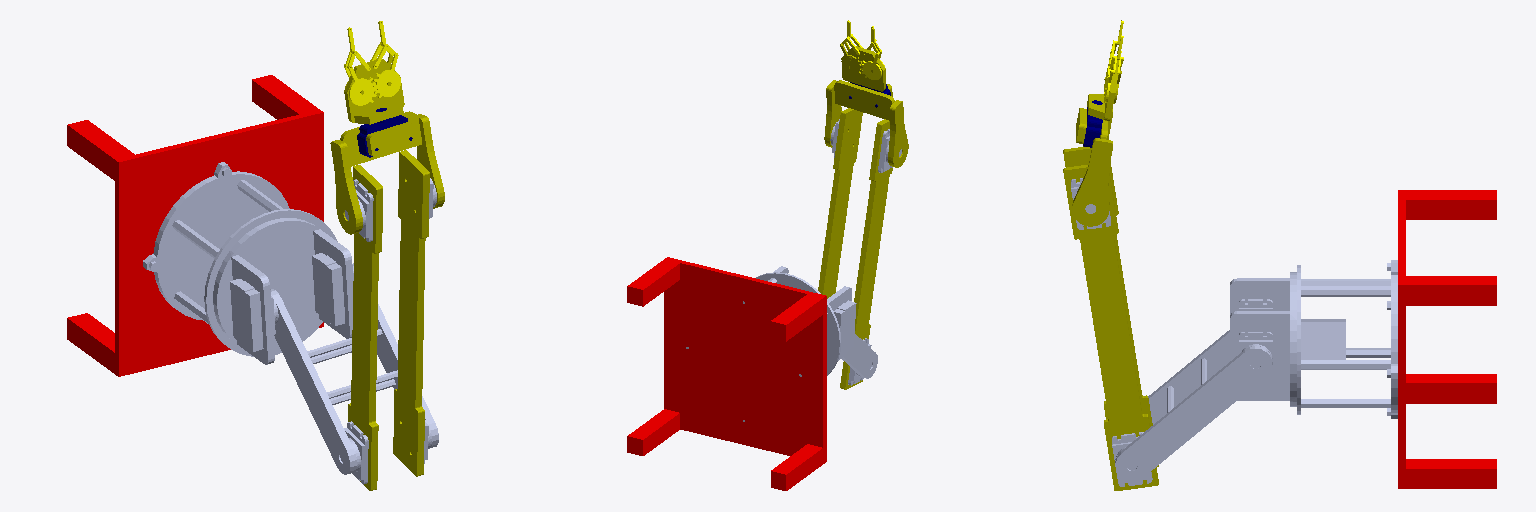
--- Facts derived from the render (not from the file) ---
Views: 3 orthographic renders of the robot side by side, from view 1: azimuth 30°, elevation 25°; view 2: azimuth 150°, elevation 25°; view 3: azimuth 270°, elevation 25°.
Model RoboticArmUrdf with 27 links and 26 joints (26 fixed), rooted at base_link, posed all joints at 0.
Visible links, largest first — view 1: base_link, upper_arm, rotating_base, base_support, lower_arm, lower_wrist, upper_wrist_support, middle_wrist_fastener, lower_arm_joint, upper_arm_joint, middle_wrist, middle_wrist_rotate (+2 smaller); view 2: base_link, upper_arm, lower_wrist, middle_wrist, base_support, rotating_base, upper_wrist_support, lower_arm, upper_arm_joint; view 3: base_link, upper_arm, lower_arm, base_support, rotating_base, lower_wrist, rotating_base_joint, upper_wrist_support, lower_arm_joint.
Boxes of the visible links, box(x1,y1,x2,y2) form: base_link: box(67, 75, 323, 376); upper_arm: box(348, 150, 429, 490); rotating_base: box(213, 218, 352, 364); base_support: box(143, 162, 337, 356); lower_arm: box(270, 263, 438, 474); lower_wrist: box(330, 114, 444, 234); upper_wrist_support: box(344, 53, 404, 124); middle_wrist_fastener: box(366, 122, 416, 156); lower_arm_joint: box(340, 420, 431, 484); upper_arm_joint: box(345, 178, 436, 241); middle_wrist: box(335, 111, 421, 166); middle_wrist_rotate: box(357, 108, 412, 157); base_link: box(627, 257, 826, 490); upper_arm: box(818, 108, 892, 389); lower_wrist: box(824, 80, 908, 167); middle_wrist: box(834, 80, 900, 120); base_support: box(686, 272, 840, 421); rotating_base: box(773, 266, 856, 360); upper_wrist_support: box(840, 43, 885, 91); lower_arm: box(842, 334, 877, 378); upper_arm_joint: box(830, 119, 901, 172); base_link: box(1398, 190, 1496, 488); upper_arm: box(1063, 147, 1158, 490); lower_arm: box(1115, 330, 1272, 481); base_support: box(1297, 260, 1397, 418); rotating_base: box(1230, 272, 1296, 406); lower_wrist: box(1072, 109, 1112, 226); rotating_base_joint: box(1239, 299, 1272, 383); upper_wrist_support: box(1087, 60, 1121, 120); lower_arm_joint: box(1112, 432, 1152, 486).
Bounding box of the posed robot: 0.3 × 0.5776 × 0.6503 m (x, y, z).
26 mesh visuals loaded from 27 distinct referenced files (26 binary STL); not drawn: 1 (reference not matched to a file when rendering).

The robot description file, URDF, robot "RoboticArmUrdf":
<?xml version="1.0" encoding="utf-8"?>
<!-- This URDF was automatically created by SolidWorks to URDF Exporter! Originally created by Stephen Brawner ([email redacted]) 
     Commit Version: 1.5.1-0-g916b5db  Build Version: 1.5.7152.31018
     For more information, please see http://wiki.ros.org/sw_urdf_exporter -->
<robot
  name="RoboticArmUrdf">
  <link
    name="base_link">
    <inertial>
      <origin
        xyz="0.0130606856888136 0.104796725192401 0.133927940020527"
        rpy="0 0 0" />
      <mass
        value="1.3348146018366" />
      <inertia
        ixx="0.00731717119287839"
        ixy="-3.95166411671864E-19"
        ixz="2.02987595928941E-21"
        iyy="0.00731717119287839"
        iyz="-7.68519617455242E-20"
        izz="0.0135564188757262" />
    </inertial>
    <visual>
      <origin
        xyz="0 0 0"
        rpy="0 0 0" />
      <geometry>
        <mesh
          filename="package://RoboticArmUrdf/meshes/base_link.STL" />
      </geometry>
      <material
        name="">
        <color
          rgba="1 0 0 1" />
      </material>
    </visual>
    <collision>
      <origin
        xyz="0 0 0"
        rpy="0 0 0" />
      <geometry>
        <mesh
          filename="package://RoboticArmUrdf/meshes/base_link.STL" />
      </geometry>
    </collision>
  </link>
  <link
    name="base_support">
    <inertial>
      <origin
        xyz="-0.000162890713149082 -7.3240534757088E-05 0.0664450704223414"
        rpy="0 0 0" />
      <mass
        value="0.832868332393332" />
      <inertia
        ixx="0.00350108503435845"
        ixy="-4.67330503264092E-05"
        ixz="-2.46721283635663E-07"
        iyy="0.00359380894375415"
        iyz="-1.80675445571452E-07"
        izz="0.00325080940173649" />
    </inertial>
    <visual>
      <origin
        xyz="0 0 0"
        rpy="0 0 0" />
      <geometry>
        <mesh
          filename="package://RoboticArmUrdf/meshes/base_support.STL" />
      </geometry>
      <material
        name="">
        <color
          rgba="0.792156862745098 0.819607843137255 0.933333333333333 1" />
      </material>
    </visual>
    <collision>
      <origin
        xyz="0 0 0"
        rpy="0 0 0" />
      <geometry>
        <mesh
          filename="package://RoboticArmUrdf/meshes/base_support.STL" />
      </geometry>
    </collision>
  </link>
  <joint
    name="base_support"
    type="fixed">
    <origin
      xyz="0.0130606856888135 -0.160303043320073 0.104796725192401"
      rpy="1.5707963267949 0 0" />
    <parent
      link="base_link" />
    <child
      link="base_support" />
    <axis
      xyz="0 0 0" />
  </joint>
  <link
    name="rotating_base">
    <inertial>
      <origin
        xyz="-0.00269104666764745 -2.26128577741902E-06 0.0310765276223877"
        rpy="0 0 0" />
      <mass
        value="0.568032159474985" />
      <inertia
        ixx="0.00127653342014438"
        ixy="6.45607624381303E-08"
        ixz="3.65694449931144E-05"
        iyy="0.00211751010326715"
        iyz="3.07292946051472E-08"
        izz="0.0025129988786093" />
    </inertial>
    <visual>
      <origin
        xyz="0 0 0"
        rpy="0 0 0" />
      <geometry>
        <mesh
          filename="package://RoboticArmUrdf/meshes/rotating_base.STL" />
      </geometry>
      <material
        name="">
        <color
          rgba="0.792156862745098 0.819607843137255 0.933333333333333 1" />
      </material>
    </visual>
    <collision>
      <origin
        xyz="0 0 0"
        rpy="0 0 0" />
      <geometry>
        <mesh
          filename="package://RoboticArmUrdf/meshes/rotating_base.STL" />
      </geometry>
    </collision>
  </link>
  <joint
    name="rotating_base"
    type="fixed">
    <origin
      xyz="0 0 0.135"
      rpy="0 0 0.0667915392522343" />
    <parent
      link="base_support" />
    <child
      link="rotating_base" />
    <axis
      xyz="0 0 0" />
  </joint>
  <link
    name="rotating_base_joint">
    <inertial>
      <origin
        xyz="-0.0549999999999999 -0.00703986656086272 -0.0523864443275936"
        rpy="0 0 0" />
      <mass
        value="0.0779202105891382" />
      <inertia
        ixx="2.17852476330344E-05"
        ixy="-8.10741447379937E-08"
        ixz="1.08950162168509E-08"
        iyy="1.3516751184445E-05"
        iyz="2.62188702546664E-06"
        izz="3.26749163361101E-05" />
    </inertial>
    <visual>
      <origin
        xyz="0 0 0"
        rpy="0 0 0" />
      <geometry>
        <mesh
          filename="package://RoboticArmUrdf/meshes/rotating_base_joint.STL" />
      </geometry>
      <material
        name="">
        <color
          rgba="0.792156862745098 0.819607843137255 0.933333333333333 1" />
      </material>
    </visual>
    <collision>
      <origin
        xyz="0 0 0"
        rpy="0 0 0" />
      <geometry>
        <mesh
          filename="package://RoboticArmUrdf/meshes/rotating_base_joint.STL" />
      </geometry>
    </collision>
  </link>
  <joint
    name="rotating_base_joint"
    type="fixed">
    <origin
      xyz="0.065071012278614 0 0"
      rpy="0.133583078504468 1.5707963267949 0" />
    <parent
      link="rotating_base" />
    <child
      link="rotating_base_joint" />
    <axis
      xyz="0 0 0" />
  </joint>
  <link
    name="lower_arm">
    <inertial>
      <origin
        xyz="-0.155 -2.77555756156289E-16 -0.0550700000000001"
        rpy="0 0 0" />
      <mass
        value="0.247158355868061" />
      <inertia
        ixx="0.000866534387061446"
        ixy="-2.38524477946811E-18"
        ixz="-3.08881451406787E-19"
        iyy="0.00201398604928593"
        iyz="-7.61067705470258E-19"
        izz="0.0012313026951699" />
    </inertial>
    <visual>
      <origin
        xyz="0 0 0"
        rpy="0 0 0" />
      <geometry>
        <mesh
          filename="package://RoboticArmUrdf/meshes/lower_arm.STL" />
      </geometry>
      <material
        name="">
        <color
          rgba="0.792156862745098 0.819607843137255 0.929411764705882 1" />
      </material>
    </visual>
    <collision>
      <origin
        xyz="0 0 0"
        rpy="0 0 0" />
      <geometry>
        <mesh
          filename="package://RoboticArmUrdf/meshes/lower_arm.STL" />
      </geometry>
    </collision>
  </link>
  <joint
    name="lower_arm"
    type="fixed">
    <origin
      xyz="0.0810710122786172 0.0297610010239274 0.021246736186644"
      rpy="1.5707963267949 0.848171739621261 1.5707963267949" />
    <parent
      link="rotating_base" />
    <child
      link="lower_arm" />
    <axis
      xyz="0 0 0" />
  </joint>
  <link
    name="lower_arm_joint">
    <inertial>
      <origin
        xyz="-0.055 -4.5102810375397E-16 -0.0390699999999915"
        rpy="0 0 0" />
      <mass
        value="0.0779202105891381" />
      <inertia
        ixx="2.17852476330344E-05"
        ixy="3.72694496791892E-20"
        ixz="-2.83514661611665E-21"
        iyy="1.31644131887314E-05"
        iyz="8.13839870087848E-21"
        izz="3.30272543318236E-05" />
    </inertial>
    <visual>
      <origin
        xyz="0 0 0"
        rpy="0 0 0" />
      <geometry>
        <mesh
          filename="package://RoboticArmUrdf/meshes/lower_arm_joint.STL" />
      </geometry>
      <material
        name="">
        <color
          rgba="0.792156862745098 0.819607843137255 0.933333333333333 1" />
      </material>
    </visual>
    <collision>
      <origin
        xyz="0 0 0"
        rpy="0 0 0" />
      <geometry>
        <mesh
          filename="package://RoboticArmUrdf/meshes/lower_arm_joint.STL" />
      </geometry>
    </collision>
  </link>
  <joint
    name="lower_arm_joint"
    type="fixed">
    <origin
      xyz="-0.311174431281139 0.0298817987387519 -0.0160000000000158"
      rpy="0 0 2.56722332066206" />
    <parent
      link="lower_arm" />
    <child
      link="lower_arm_joint" />
    <axis
      xyz="0 0 0" />
  </joint>
  <link
    name="upper_arm">
    <inertial>
      <origin
        xyz="0.0550000000000026 -0.189183548498198 0.0390699999999916"
        rpy="0 0 0" />
      <mass
        value="0.476012561848824" />
      <inertia
        ixx="0.00947889882391171"
        ixy="1.03776782631702E-16"
        ixz="-2.24747907897596E-20"
        iyy="0.000115722688482621"
        iyz="5.31255179436593E-18"
        izz="0.00958668796969685" />
    </inertial>
    <visual>
      <origin
        xyz="0 0 0"
        rpy="0 0 0" />
      <geometry>
        <mesh
          filename="package://RoboticArmUrdf/meshes/upper_arm.STL" />
      </geometry>
      <material
        name="">
        <color
          rgba="0.749019607843137 0.749019607843137 0 1" />
      </material>
    </visual>
    <collision>
      <origin
        xyz="0 0 0"
        rpy="0 0 0" />
      <geometry>
        <mesh
          filename="package://RoboticArmUrdf/meshes/upper_arm.STL" />
      </geometry>
    </collision>
  </link>
  <joint
    name="upper_arm"
    type="fixed">
    <origin
      xyz="-0.311174431281139 0.0298817987387519 -0.0160000000000158"
      rpy="-3.14159265358979 0 -0.574369332927732" />
    <parent
      link="lower_arm" />
    <child
      link="upper_arm" />
    <axis
      xyz="0 0 0" />
  </joint>
  <link
    name="upper_arm_joint">
    <inertial>
      <origin
        xyz="-0.055000000000017 -2.18158824338843E-14 -0.0390699999999914"
        rpy="0 0 0" />
      <mass
        value="0.0779202105891382" />
      <inertia
        ixx="2.17852476330344E-05"
        ixy="-3.26742959403346E-19"
        ixz="7.10214574478763E-21"
        iyy="1.31644131887314E-05"
        iyz="-1.75376127055876E-21"
        izz="3.30272543318237E-05" />
    </inertial>
    <visual>
      <origin
        xyz="0 0 0"
        rpy="0 0 0" />
      <geometry>
        <mesh
          filename="package://RoboticArmUrdf/meshes/upper_arm_joint.STL" />
      </geometry>
      <material
        name="">
        <color
          rgba="0.792156862745098 0.819607843137255 0.933333333333333 1" />
      </material>
    </visual>
    <collision>
      <origin
        xyz="0 0 0"
        rpy="0 0 0" />
      <geometry>
        <mesh
          filename="package://RoboticArmUrdf/meshes/upper_arm_joint.STL" />
      </geometry>
    </collision>
  </link>
  <joint
    name="upper_arm_joint"
    type="fixed">
    <origin
      xyz="0 -0.371200669102102 0"
      rpy="3.14159265358979 0 3.14159265358977" />
    <parent
      link="upper_arm" />
    <child
      link="upper_arm_joint" />
    <axis
      xyz="0 0 0" />
  </joint>
  <link
    name="lower_wrist">
    <inertial>
      <origin
        xyz="-0.0550000000000144 -0.0303864944381415 -0.0550699999999914"
        rpy="0 0 0" />
      <mass
        value="0.0793292965742476" />
      <inertia
        ixx="8.95927070134836E-05"
        ixy="-1.81053292475607E-19"
        ixz="-2.04602092850225E-22"
        iyy="1.08988695552488E-05"
        iyz="-4.26453909775066E-20"
        izz="9.91694216258284E-05" />
    </inertial>
    <visual>
      <origin
        xyz="0 0 0"
        rpy="0 0 0" />
      <geometry>
        <mesh
          filename="package://RoboticArmUrdf/meshes/lower_wrist.STL" />
      </geometry>
      <material
        name="">
        <color
          rgba="0.749019607843137 0.749019607843137 0 1" />
      </material>
    </visual>
    <collision>
      <origin
        xyz="0 0 0"
        rpy="0 0 0" />
      <geometry>
        <mesh
          filename="package://RoboticArmUrdf/meshes/lower_wrist.STL" />
      </geometry>
    </collision>
  </link>
  <joint
    name="lower_wrist"
    type="fixed">
    <origin
      xyz="0.00288582485909794 -0.388782271685086 -0.0159999999999981"
      rpy="-3.14159265358979 0 -2.81621620868754" />
    <parent
      link="upper_arm" />
    <child
      link="lower_wrist" />
    <axis
      xyz="0 0 0" />
  </joint>
  <link
    name="middle_wrist">
    <inertial>
      <origin
        xyz="-0.0550000000000147 -0.084487798152163 -0.0650699999999999"
        rpy="0 0 0" />
      <mass
        value="0.041392877796077" />
      <inertia
        ixx="5.43054950346831E-05"
        ixy="-1.60936259978317E-20"
        ixz="3.27684156399979E-20"
        iyy="4.78269819228167E-05"
        iyz="-3.20708133340438E-20"
        izz="6.92003714169129E-06" />
    </inertial>
    <visual>
      <origin
        xyz="0 0 0"
        rpy="0 0 0" />
      <geometry>
        <mesh
          filename="package://RoboticArmUrdf/meshes/middle_wrist.STL" />
      </geometry>
      <material
        name="">
        <color
          rgba="0.749019607843137 0.749019607843137 0 1" />
      </material>
    </visual>
    <collision>
      <origin
        xyz="0 0 0"
        rpy="0 0 0" />
      <geometry>
        <mesh
          filename="package://RoboticArmUrdf/meshes/middle_wrist.STL" />
      </geometry>
    </collision>
  </link>
  <joint
    name="middle_wrist"
    type="fixed">
    <origin
      xyz="0 0 0.00999999999999916"
      rpy="0 0 0" />
    <parent
      link="lower_wrist" />
    <child
      link="middle_wrist" />
    <axis
      xyz="0 0 0" />
  </joint>
  <link
    name="middle_wrist_fastener">
    <inertial>
      <origin
        xyz="0.0650700000000033 -0.0902500014384841 0.00500000000000045"
        rpy="0 0 0" />
      <mass
        value="0.0180265824894944" />
      <inertia
        ixx="1.36978170398376E-06"
        ixy="-1.77134294860471E-22"
        ixz="-3.19217618211663E-20"
        iyy="6.29447940200515E-06"
        iyz="1.48230765769503E-21"
        izz="7.36381806449733E-06" />
    </inertial>
    <visual>
      <origin
        xyz="0 0 0"
        rpy="0 0 0" />
      <geometry>
        <mesh
          filename="package://RoboticArmUrdf/meshes/middle_wrist_fastener.STL" />
      </geometry>
      <material
        name="">
        <color
          rgba="0.749019607843137 0.749019607843137 0 1" />
      </material>
    </visual>
    <collision>
      <origin
        xyz="0 0 0"
        rpy="0 0 0" />
      <geometry>
        <mesh
          filename="package://RoboticArmUrdf/meshes/middle_wrist_fastener.STL" />
      </geometry>
    </collision>
  </link>
  <joint
    name="middle_wrist_fastener"
    type="fixed">
    <origin
      xyz="-0.0310000000000152 0 0.00999999999999779"
      rpy="1.7889617221838 1.57079631189374 1.78922028604001" />
    <parent
      link="lower_wrist" />
    <child
      link="middle_wrist_fastener" />
    <axis
      xyz="0 0 0" />
  </joint>
  <link
    name="middle_wrist_rotate">
    <inertial>
      <origin
        xyz="0.0650700000000001 -0.0934209399670716 0.0100000000000001"
        rpy="0 0 0" />
      <mass
        value="0.0544006200163533" />
      <inertia
        ixx="9.78547159330619E-06"
        ixy="1.23014255527929E-20"
        ixz="-8.17344849645657E-20"
        iyy="2.16942147820842E-05"
        iyz="-3.3881317890172E-21"
        izz="2.76409822294144E-05" />
    </inertial>
    <visual>
      <origin
        xyz="0 0 0"
        rpy="0 0 0" />
      <geometry>
        <mesh
          filename="package://RoboticArmUrdf/meshes/middle_wrist_rotate.STL" />
      </geometry>
      <material
        name="">
        <color
          rgba="0 0 0.501960784313725 1" />
      </material>
    </visual>
    <collision>
      <origin
        xyz="0 0 0"
        rpy="0 0 0" />
      <geometry>
        <mesh
          filename="package://RoboticArmUrdf/meshes/middle_wrist_rotate.STL" />
      </geometry>
    </collision>
  </link>
  <joint
    name="middle_wrist_rotate"
    type="fixed">
    <origin
      xyz="-0.0510000000000153 0 0.009999999999996"
      rpy="1.8200473876846 1.57079630572147 1.82043872432893" />
    <parent
      link="lower_wrist" />
    <child
      link="middle_wrist_rotate" />
    <axis
      xyz="0 0 0" />
  </joint>
  <link
    name="upper_wrist_support">
    <inertial>
      <origin
        xyz="-0.0638496887120203 -0.00169425079540031 0.0273006010626642"
        rpy="0 0 0" />
      <mass
        value="0.0555738247179545" />
      <inertia
        ixx="2.44431745672034E-05"
        ixy="3.99164276393589E-20"
        ixz="-1.03536168224706E-07"
        iyy="4.43340564974168E-05"
        iyz="-3.42527115552265E-06"
        izz="2.49701179742996E-05" />
    </inertial>
    <visual>
      <origin
        xyz="0 0 0"
        rpy="0 0 0" />
      <geometry>
        <mesh
          filename="package://RoboticArmUrdf/meshes/upper_wrist_support.STL" />
      </geometry>
      <material
        name="">
        <color
          rgba="0.749019607843137 0.749019607843137 0 1" />
      </material>
    </visual>
    <collision>
      <origin
        xyz="0 0 0"
        rpy="0 0 0" />
      <geometry>
        <mesh
          filename="package://RoboticArmUrdf/meshes/upper_wrist_support.STL" />
      </geometry>
    </collision>
  </link>
  <joint
    name="upper_wrist_support"
    type="fixed">
    <origin
      xyz="0.00015242058887599 -0.116806017714321 -0.00421487894331463"
      rpy="-1.5707963267949 0.0109990775949471 -3.14159265358979" />
    <parent
      link="middle_wrist_rotate" />
    <child
      link="upper_wrist_support" />
    <axis
      xyz="0 0 0" />
  </joint>
  <link
    name="left_upper_gear">
    <inertial>
      <origin
        xyz="0.04560067699187 -0.0403924815910667 0.00150000000000017"
        rpy="0 0 0" />
      <mass
        value="0.0033951831813499" />
      <inertia
        ixx="4.76330917639785E-07"
        ixy="-7.71923054033505E-08"
        ixz="6.74979379843271E-22"
        iyy="3.13325223592269E-07"
        iyz="1.76685778841327E-21"
        izz="7.84563366460029E-07" />
    </inertial>
    <visual>
      <origin
        xyz="0 0 0"
        rpy="0 0 0" />
      <geometry>
        <mesh
          filename="package://RoboticArmUrdf/meshes/left_upper_gear.STL" />
      </geometry>
      <material
        name="">
        <color
          rgba="1 1 0 1" />
      </material>
    </visual>
    <collision>
      <origin
        xyz="0 0 0"
        rpy="0 0 0" />
      <geometry>
        <mesh
          filename="package://RoboticArmUrdf/meshes/left_upper_gear.STL" />
      </geometry>
    </collision>
  </link>
  <joint
    name="left_upper_gear"
    type="fixed">
    <origin
      xyz="-0.00881412206891066 -0.00329999999996133 -0.0084845804053541"
      rpy="-1.57079632679489 -0.207904224454459 -3.14159265358946" />
    <parent
      link="upper_wrist_support" />
    <child
      link="left_upper_gear" />
    <axis
      xyz="0 0 0" />
  </joint>
  <link
    name="left_upper_fastner_support">
    <inertial>
      <origin
        xyz="-0.0296581057404265 -0.0949371627528535 0.00124999999999953"
        rpy="0 0 0" />
      <mass
        value="0.000282503805877604" />
      <inertia
        ixx="1.20637751745227E-08"
        ixy="2.92812516355629E-09"
        ixz="1.16839261523115E-23"
        iyy="1.49590348728812E-09"
        iyz="-6.38480035314368E-24"
        izz="1.32654038640217E-08" />
    </inertial>
    <visual>
      <origin
        xyz="0 0 0"
        rpy="0 0 0" />
      <geometry>
        <mesh
          filename="package://RoboticArmUrdf/meshes/left_upper_fastner_support.STL" />
      </geometry>
      <material
        name="">
        <color
          rgba="1 1 0 1" />
      </material>
    </visual>
    <collision>
      <origin
        xyz="0 0 0"
        rpy="0 0 0" />
      <geometry>
        <mesh
          filename="package://RoboticArmUrdf/meshes/left_upper_fastner_support.STL" />
      </geometry>
    </collision>
  </link>
  <joint
    name="left_upper_fastner_support"
    type="fixed">
    <origin
      xyz="-0.0553979760761215 -0.0642810003731594 0"
      rpy="3.14159265358979 0 -2.03851468926038" />
    <parent
      link="left_upper_gear" />
    <child
      link="left_upper_fastner_support" />
    <axis
      xyz="0 0 0" />
  </joint>
  <link
    name="left_end_effector">
    <inertial>
      <origin
        xyz="-0.0202625950481072 -0.131145813818515 0.00165499999999963"
        rpy="0 0 0" />
      <mass
        value="0.000540661599083285" />
      <inertia
        ixx="4.67657334114781E-08"
        ixy="1.17755889168048E-08"
        ixz="8.01331218410746E-24"
        iyy="4.69591747119047E-09"
        iyz="6.02420130485885E-23"
        izz="5.04743937917159E-08" />
    </inertial>
    <visual>
      <origin
        xyz="0 0 0"
        rpy="0 0 0" />
      <geometry>
        <mesh
          filename="package://RoboticArmUrdf/meshes/left_end_effector.STL" />
      </geometry>
      <material
        name="">
        <color
          rgba="1 1 0 1" />
      </material>
    </visual>
    <collision>
      <origin
        xyz="0 0 0"
        rpy="0 0 0" />
      <geometry>
        <mesh
          filename="package://RoboticArmUrdf/meshes/left_end_effector.STL" />
      </geometry>
    </collision>
  </link>
  <joint
    name="left_end_effector"
    type="fixed">
    <origin
      xyz="-0.0775257933993018 0.00332527875256274 0.00249999999996076"
      rpy="0 0 0.640001266438473" />
    <parent
      link="left_upper_fastner_support" />
    <child
      link="left_end_effector" />
    <axis
      xyz="0 0 0" />
  </joint>
  <link
    name="right_upper_gear">
    <inertial>
      <origin
        xyz="0.0456006769918698 -0.0403924815910666 0.00149999999999961"
        rpy="0 0 0" />
      <mass
        value="0.00339518318134994" />
      <inertia
        ixx="4.76330917639795E-07"
        ixy="-7.71923054033513E-08"
        ixz="1.45335633625567E-21"
        iyy="3.13325223592271E-07"
        iyz="-1.01577779221512E-21"
        izz="7.84563366460041E-07" />
    </inertial>
    <visual>
      <origin
        xyz="0 0 0"
        rpy="0 0 0" />
      <geometry>
        <mesh
          filename="package://RoboticArmUrdf/meshes/right_upper_gear.STL" />
      </geometry>
      <material
        name="">
        <color
          rgba="1 1 0 1" />
      </material>
    </visual>
    <collision>
      <origin
        xyz="0 0 0"
        rpy="0 0 0" />
      <geometry>
        <mesh
          filename="package://RoboticArmUrdf/meshes/right_upper_gear.STL" />
      </geometry>
    </collision>
  </link>
  <joint
    name="right_upper_gear"
    type="fixed">
    <origin
      xyz="-0.129704760937072 -0.00630000000000874 -0.000510297532895165"
      rpy="-1.5707963267949 -0.0113771448285702 0" />
    <parent
      link="upper_wrist_support" />
    <child
      link="right_upper_gear" />
    <axis
      xyz="0 0 0" />
  </joint>
  <link
    name="right_upper_fastner_support">
    <inertial>
      <origin
        xyz="-0.0296581057404263 -0.0949371627528535 0.00124999999999997"
        rpy="0 0 0" />
      <mass
        value="0.000282503805877601" />
      <inertia
        ixx="1.20637751745231E-08"
        ixy="2.92812516355628E-09"
        ixz="-2.71935626376808E-23"
        iyy="1.49590348728805E-09"
        iyz="3.34232666259708E-23"
        izz="1.3265403864022E-08" />
    </inertial>
    <visual>
      <origin
        xyz="0 0 0"
        rpy="0 0 0" />
      <geometry>
        <mesh
          filename="package://RoboticArmUrdf/meshes/right_upper_fastner_support.STL" />
      </geometry>
      <material
        name="">
        <color
          rgba="1 1 0 1" />
      </material>
    </visual>
    <collision>
      <origin
        xyz="0 0 0"
        rpy="0 0 0" />
      <geometry>
        <mesh
          filename="package://RoboticArmUrdf/meshes/right_upper_fastner_support.STL" />
      </geometry>
    </collision>
  </link>
  <joint
    name="right_upper_fastner_support"
    type="fixed">
    <origin
      xyz="0.0405054460805762 -0.18196135585292 0.003"
      rpy="0 0 -2.83861382166622" />
    <parent
      link="right_upper_gear" />
    <child
      link="right_upper_fastner_support" />
    <axis
      xyz="0 0 0" />
  </joint>
  <link
    name="right_end_effector">
    <inertial>
      <origin
        xyz="-0.020262595048107 -0.131145813818515 0.00165499999999996"
        rpy="0 0 0" />
      <mass
        value="0.000540661599083289" />
      <inertia
        ixx="4.67657334114785E-08"
        ixy="1.1775588916805E-08"
        ixz="3.10192729707385E-23"
        iyy="4.6959174711906E-09"
        iyz="-6.97933641841617E-23"
        izz="5.04743937917164E-08" />
    </inertial>
    <visual>
      <origin
        xyz="0 0 0"
        rpy="0 0 0" />
      <geometry>
        <mesh
          filename="package://RoboticArmUrdf/meshes/right_end_effector.STL" />
      </geometry>
      <material
        name="">
        <color
          rgba="1 1 0 1" />
      </material>
    </visual>
    <collision>
      <origin
        xyz="0 0 0"
        rpy="0 0 0" />
      <geometry>
        <mesh
          filename="package://RoboticArmUrdf/meshes/right_end_effector.STL" />
      </geometry>
    </collision>
  </link>
  <joint
    name="right_end_effector"
    type="fixed">
    <origin
      xyz="-0.113335712168335 -0.172412390067327 0.00249999999997519"
      rpy="0 0 2.59481849305831" />
    <parent
      link="right_upper_fastner_support" />
    <child
      link="right_end_effector" />
    <axis
      xyz="0 0 0" />
  </joint>
  <link
    name="right_bottom_gear">
    <inertial>
      <origin
        xyz="0.0456006769918698 -0.0403924815910667 0.00149999999999972"
        rpy="0 0 0" />
      <mass
        value="0.00339518318134996" />
      <inertia
        ixx="4.76330917639799E-07"
        ixy="-7.71923054033523E-08"
        ixz="1.3119084515091E-21"
        iyy="3.13325223592273E-07"
        iyz="-9.13207396258543E-22"
        izz="7.84563366460048E-07" />
    </inertial>
    <visual>
      <origin
        xyz="0 0 0"
        rpy="0 0 0" />
      <geometry>
        <mesh
          filename="package://RoboticArmUrdf/meshes/right_bottom_gear.STL" />
      </geometry>
      <material
        name="">
        <color
          rgba="1 1 0 1" />
      </material>
    </visual>
    <collision>
      <origin
        xyz="0 0 0"
        rpy="0 0 0" />
      <geometry>
        <mesh
          filename="package://RoboticArmUrdf/meshes/right_bottom_gear.STL" />
      </geometry>
    </collision>
  </link>
  <joint
    name="right_bottom_gear"
    type="fixed">
    <origin
      xyz="-0.129704760937075 0.00499999999999123 -0.000510297532895554"
      rpy="-1.5707963267949 -0.0113771448285702 0" />
    <parent
      link="upper_wrist_support" />
    <child
      link="right_bottom_gear" />
    <axis
      xyz="0 0 0" />
  </joint>
  <link
    name="right_bottom_fastener_support">
    <inertial>
      <origin
        xyz="-0.0296581057404263 -0.0949371627528531 0.00704999999999933"
        rpy="0 0 0" />
      <mass
        value="0.000282503805877599" />
      <inertia
        ixx="1.20637751745226E-08"
        ixy="2.9281251635562E-09"
        ixz="1.24077091882954E-24"
        iyy="1.49590348728804E-09"
        iyz="5.70496128720166E-23"
        izz="1.32654038640215E-08" />
    </inertial>
    <visual>
      <origin
        xyz="0 0 0"
        rpy="0 0 0" />
      <geometry>
        <mesh
          filename="package://RoboticArmUrdf/meshes/right_bottom_fastener_support.STL" />
      </geometry>
      <material
        name="">
        <color
          rgba="1 1 0 1" />
      </material>
    </visual>
    <collision>
      <origin
        xyz="0 0 0"
        rpy="0 0 0" />
      <geometry>
        <mesh
          filename="package://RoboticArmUrdf/meshes/right_bottom_fastener_support.STL" />
      </geometry>
    </collision>
  </link>
  <joint
    name="right_bottom_fastener_support"
    type="fixed">
    <origin
      xyz="0.0405054460805762 -0.181961355852921 -0.0083000000000002"
      rpy="0 0 -2.83861382166622" />
    <parent
      link="right_bottom_gear" />
    <child
      link="right_bottom_fastener_support" />
    <axis
      xyz="0 0 0" />
  </joint>
  <link
    name="left_bottom_gear">
    <inertial>
      <origin
        xyz="0.0456006769918699 -0.0403924815910666 0.00150000000000006"
        rpy="0 0 0" />
      <mass
        value="0.0033951831813499" />
      <inertia
        ixx="4.76330917639784E-07"
        ixy="-7.71923054033508E-08"
        ixz="6.35274710440725E-22"
        iyy="3.13325223592269E-07"
        iyz="1.73377056391115E-21"
        izz="7.84563366460028E-07" />
    </inertial>
    <visual>
      <origin
        xyz="0 0 0"
        rpy="0 0 0" />
      <geometry>
        <mesh
          filename="package://RoboticArmUrdf/meshes/left_bottom_gear.STL" />
      </geometry>
      <material
        name="">
        <color
          rgba="1 1 0 1" />
      </material>
    </visual>
    <collision>
      <origin
        xyz="0 0 0"
        rpy="0 0 0" />
      <geometry>
        <mesh
          filename="package://RoboticArmUrdf/meshes/left_bottom_gear.STL" />
      </geometry>
    </collision>
  </link>
  <joint
    name="left_bottom_gear"
    type="fixed">
    <origin
      xyz="-0.00881412206891447 0.00800000000002543 -0.00848458040535421"
      rpy="-1.57079632679489 -0.207904224454458 -3.14159265358946" />
    <parent
      link="upper_wrist_support" />
    <child
      link="left_bottom_gear" />
    <axis
      xyz="0 0 0" />
  </joint>
  <link
    name="left_bottom_fastener_support">
    <inertial>
      <origin
        xyz="-0.029658105740427 -0.0949371627528532 0.00704999999999922"
        rpy="0 0 0" />
      <mass
        value="0.0002825038058776" />
      <inertia
        ixx="1.20637751745227E-08"
        ixy="2.92812516355628E-09"
        ixz="1.71639977104753E-23"
        iyy="1.49590348728805E-09"
        iyz="-5.59380889238985E-23"
        izz="1.32654038640216E-08" />
    </inertial>
    <visual>
      <origin
        xyz="0 0 0"
        rpy="0 0 0" />
      <geometry>
        <mesh
          filename="package://RoboticArmUrdf/meshes/left_bottom_fastener_support.STL" />
      </geometry>
      <material
        name="">
        <color
          rgba="1 1 0 1" />
      </material>
    </visual>
    <collision>
      <origin
        xyz="0 0 0"
        rpy="0 0 0" />
      <geometry>
        <mesh
          filename="package://RoboticArmUrdf/meshes/left_bottom_fastener_support.STL" />
      </geometry>
    </collision>
  </link>
  <joint
    name="left_bottom_fastener_support"
    type="fixed">
    <origin
      xyz="-0.0553979760761215 -0.0642810003731594 0.0112999999999938"
      rpy="3.14159265358979 0 -2.03851468926038" />
    <parent
      link="left_bottom_gear" />
    <child
      link="left_bottom_fastener_support" />
    <axis
      xyz="0 0 0" />
  </joint>
  <link
    name="left_upper_gear_support">
    <inertial>
      <origin
        xyz="-0.0202625950481072 -0.131145813818515 0.00165499999999952"
        rpy="0 0 0" />
      <mass
        value="0.000540661599083289" />
      <inertia
        ixx="4.67657334114792E-08"
        ixy="1.1775588916805E-08"
        ixz="3.76367178711628E-23"
        iyy="4.6959174711904E-09"
        iyz="-2.39572184910671E-22"
        izz="5.04743937917168E-08" />
    </inertial>
    <visual>
      <origin
        xyz="0 0 0"
        rpy="0 0 0" />
      <geometry>
        <mesh
          filename="package://RoboticArmUrdf/meshes/left_upper_gear_support.STL" />
      </geometry>
      <material
        name="">
        <color
          rgba="1 1 0 1" />
      </material>
    </visual>
    <collision>
      <origin
        xyz="0 0 0"
        rpy="0 0 0" />
      <geometry>
        <mesh
          filename="package://RoboticArmUrdf/meshes/left_upper_gear_support.STL" />
      </geometry>
    </collision>
  </link>
  <joint
    name="left_upper_gear_support"
    type="fixed">
    <origin
      xyz="-0.0926473277587149 -0.00660999999999667 -0.0495971141315421"
      rpy="-1.5707963267949 0.480440571382254 0" />
    <parent
      link="upper_wrist_support" />
    <child
      link="left_upper_gear_support" />
    <axis
      xyz="0 0 0" />
  </joint>
  <link
    name="right_upper_gear_support">
    <inertial>
      <origin
        xyz="-0.0202625950481073 -0.131145813818515 0.00165499999999963"
        rpy="0 0 0" />
      <mass
        value="0.000540661599083279" />
      <inertia
        ixx="4.67657334114779E-08"
        ixy="1.17755889168046E-08"
        ixz="1.71639977104753E-23"
        iyy="4.69591747119035E-09"
        iyz="-1.30280946477102E-23"
        izz="5.04743937917156E-08" />
    </inertial>
    <visual>
      <origin
        xyz="0 0 0"
        rpy="0 0 0" />
      <geometry>
        <mesh
          filename="package://RoboticArmUrdf/meshes/right_upper_gear_support.STL" />
      </geometry>
      <material
        name="">
        <color
          rgba="1 1 0 1" />
      </material>
    </visual>
    <collision>
      <origin
        xyz="0 0 0"
        rpy="0 0 0" />
      <geometry>
        <mesh
          filename="package://RoboticArmUrdf/meshes/right_upper_gear_support.STL" />
      </geometry>
    </collision>
  </link>
  <joint
    name="right_upper_gear_support"
    type="fixed">
    <origin
      xyz="-0.0626613606702598 -0.00329999999998654 -0.0539090591676911"
      rpy="-1.5707963267949 0.265597870322012 -3.14159265358946" />
    <parent
      link="upper_wrist_support" />
    <child
      link="right_upper_gear_support" />
    <axis
      xyz="0 0 0" />
  </joint>
  <link
    name="right_bottom_gear_support">
    <inertial>
      <origin
        xyz="-0.0202625950481072 -0.131145813818515 0.00165499999999985"
        rpy="0 0 0" />
      <mass
        value="0.000540661599083291" />
      <inertia
        ixx="4.67657334114783E-08"
        ixy="1.17755889168051E-08"
        ixz="9.92616735063633E-24"
        iyy="4.69591747119052E-09"
        iyz="-1.71329784375046E-22"
        izz="5.04743937917162E-08" />
    </inertial>
    <visual>
      <origin
        xyz="0 0 0"
        rpy="0 0 0" />
      <geometry>
        <mesh
          filename="package://RoboticArmUrdf/meshes/right_bottom_gear_support.STL" />
      </geometry>
      <material
        name="">
        <color
          rgba="1 1 0 1" />
      </material>
    </visual>
    <collision>
      <origin
        xyz="0 0 0"
        rpy="0 0 0" />
      <geometry>
        <mesh
          filename="package://RoboticArmUrdf/meshes/right_bottom_gear_support.STL" />
      </geometry>
    </collision>
  </link>
  <joint
    name="right_bottom_gear_support"
    type="fixed">
    <origin
      xyz="-0.0626613606702637 0.00831000000001358 -0.0539090591676908"
      rpy="-1.5707963267949 0.265597870322012 -3.14159265358945" />
    <parent
      link="upper_wrist_support" />
    <child
      link="right_bottom_gear_support" />
    <axis
      xyz="0 0 0" />
  </joint>
  <link
    name="left_bottom_gear_support">
    <inertial>
      <origin
        xyz="-0.0202625950481072 -0.131145813818515 0.00165499999999952"
        rpy="0 0 0" />
      <mass
        value="0.000540661599083295" />
      <inertia
        ixx="4.67657334114804E-08"
        ixy="1.17755889168052E-08"
        ixz="-1.50960461790928E-23"
        iyy="4.69591747119062E-09"
        iyz="-8.87151206963122E-23"
        izz="5.04743937917182E-08" />
    </inertial>
    <visual>
      <origin
        xyz="0 0 0"
        rpy="0 0 0" />
      <geometry>
        <mesh
          filename="package://RoboticArmUrdf/meshes/left_bottom_gear_support.STL" />
      </geometry>
      <material
        name="">
        <color
          rgba="1 1 0 1" />
      </material>
    </visual>
    <collision>
      <origin
        xyz="0 0 0"
        rpy="0 0 0" />
      <geometry>
        <mesh
          filename="package://RoboticArmUrdf/meshes/left_bottom_gear_support.STL" />
      </geometry>
    </collision>
  </link>
  <joint
    name="left_bottom_gear_support"
    type="fixed">
    <origin
      xyz="-0.0926473277587188 0.00500000000000334 -0.0495971141315417"
      rpy="-1.5707963267949 0.480440571382254 0" />
    <parent
      link="upper_wrist_support" />
    <child
      link="left_bottom_gear_support" />
    <axis
      xyz="0 0 0" />
  </joint>
</robot>
